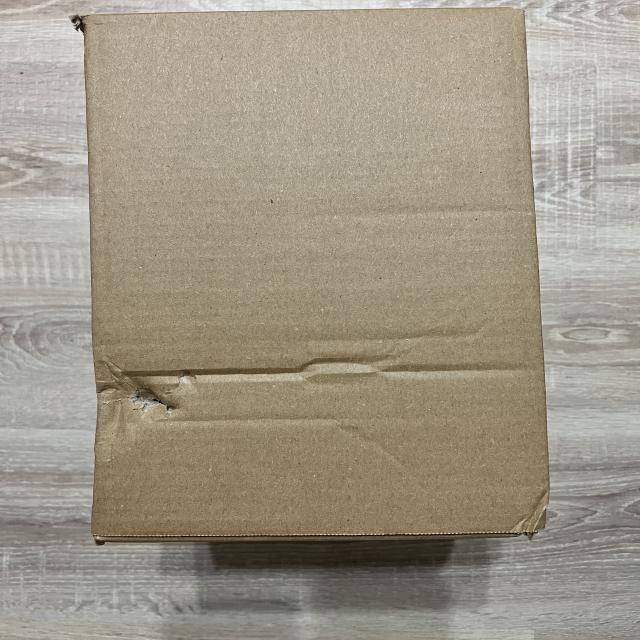damaged: (72, 3, 564, 549), (91, 358, 212, 446)
